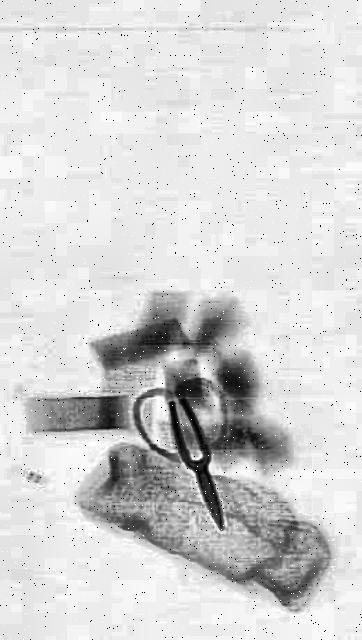Scissors: (127, 335, 257, 563)
